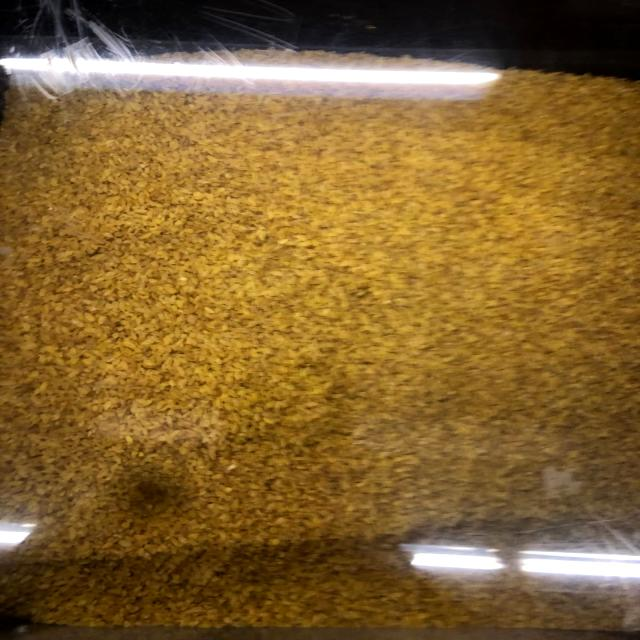rice: (102, 180, 418, 377)
